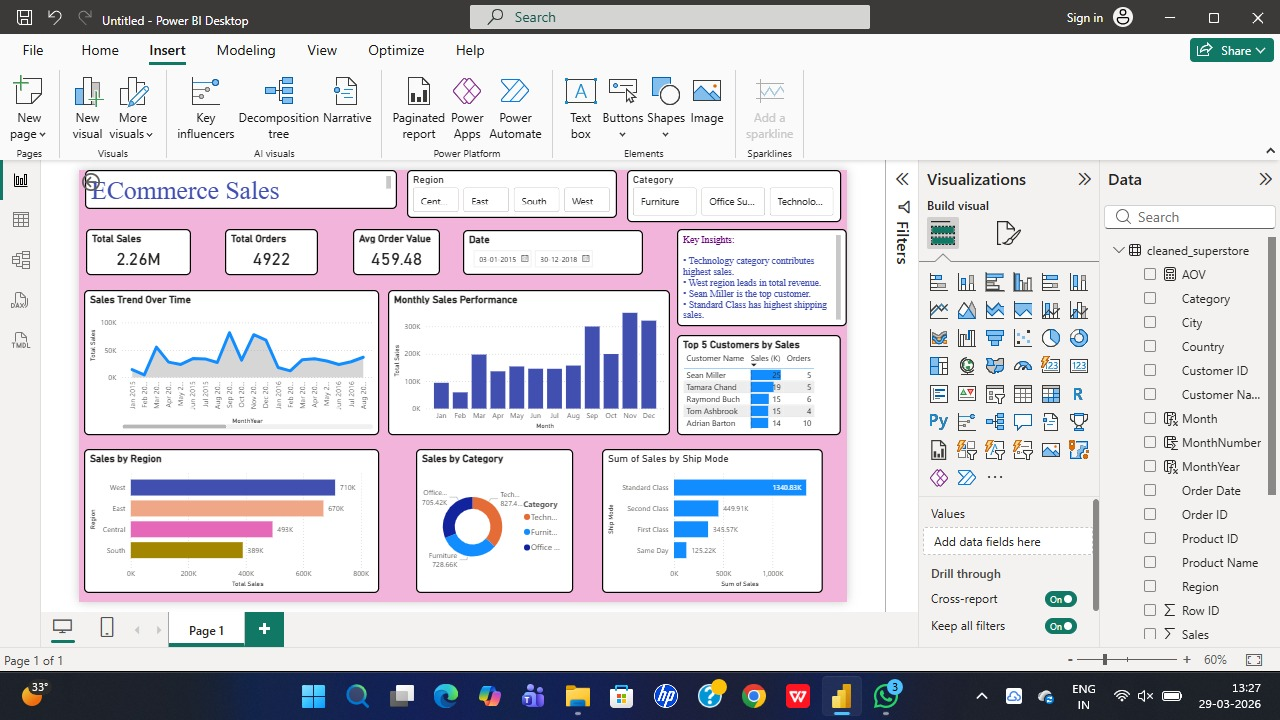

Layout of this report page (visuals, bound fields, positions):
{"tool":"powerbi","page":{"name":"Page 1","canvas":[1280,720],"ordinal":0},"visuals":[{"type":"textbox","box":[10,0,520,65],"z":0},{"type":"card","title":"Total Sales","fields":{"Values":["cleaned_superstore.Total Sales"]},"box":[11.7,98.3,175,76.7],"z":1000},{"type":"card","title":"Avg Order Value","fields":{"Values":["cleaned_superstore.AOV"]},"box":[456.7,98.3,145,76.7],"z":2000},{"type":"card","title":"Total Orders","fields":{"Values":["cleaned_superstore.Total Orders"]},"box":[243.3,98.3,155,76.7],"z":3000},{"type":"lineChart","title":"Sales Trend Over Time","fields":{"Category":["cleaned_superstore.MonthYear"],"Y":["cleaned_superstore.Total Sales"]},"box":[8.3,200,491.7,241.7],"z":4000},{"type":"clusteredColumnChart","title":" Monthly Sales Performance","fields":{"Y":["cleaned_superstore.Total Sales"],"Category":["cleaned_superstore.Month"]},"box":[515,200,470,241.7],"z":5000},{"type":"donutChart","title":"Sales by Category","fields":{"Category":["cleaned_superstore.Category"],"Y":["cleaned_superstore.Total Sales"]},"box":[561.7,465,261.7,240],"z":5001},{"type":"clusteredBarChart","title":"Sales by Region","fields":{"Category":["cleaned_superstore.Region"],"Y":["cleaned_superstore.Total Sales"]},"box":[8.3,465,491.7,240],"z":5002},{"type":"tableEx","title":"Top 5 Customers by Sales","fields":{"Values":["cleaned_superstore.Customer Name","cleaned_superstore.Sales (K)","cleaned_superstore.Order ID"]},"box":[996.7,275,273.3,166.7],"z":5003},{"type":"actionButton","box":[0,0,100,40],"z":5004},{"type":"clusteredBarChart","fields":{"Category":["cleaned_superstore.Ship Mode"],"Y":["Sum(cleaned_superstore.Sales)"]},"box":[871.7,465,368.3,240],"z":5005},{"type":"advancedSlicerVisual","fields":{"Values":["cleaned_superstore.Region"]},"box":[546.7,0,350,80],"z":5006},{"type":"advancedSlicerVisual","fields":{"Values":["cleaned_superstore.Category"]},"box":[913.3,0,356.7,86.7],"z":5007},{"type":"textbox","box":[996.7,98.3,283.3,161.7],"z":5008},{"type":"slicer","title":"Date","fields":{"Values":["cleaned_superstore.Order Date"]},"box":[640,100,300,75],"z":5009}]}

Visuals, with their boxes on the page's 1280x720 design canvas (x1, y1, x2, y2). These are canvas units, not pixel positions in the 1280x720 screenshot, which may show the page scaled, cropped or inside an application window:
textbox: 10 0 530 65
"Total Sales" card: 12 98 187 175
"Avg Order Value" card: 457 98 602 175
"Total Orders" card: 243 98 398 175
"Sales Trend Over Time" lineChart: 8 200 500 442
" Monthly Sales Performance" clusteredColumnChart: 515 200 985 442
"Sales by Category" donutChart: 562 465 823 705
"Sales by Region" clusteredBarChart: 8 465 500 705
"Top 5 Customers by Sales" tableEx: 997 275 1270 442
actionButton: 0 0 100 40
clusteredBarChart - cleaned_superstore.Ship Mode x Sum(cleaned_superstore.Sales): 872 465 1240 705
advancedSlicerVisual - cleaned_superstore.Region: 547 0 897 80
advancedSlicerVisual - cleaned_superstore.Category: 913 0 1270 87
textbox: 997 98 1280 260
"Date" slicer: 640 100 940 175
